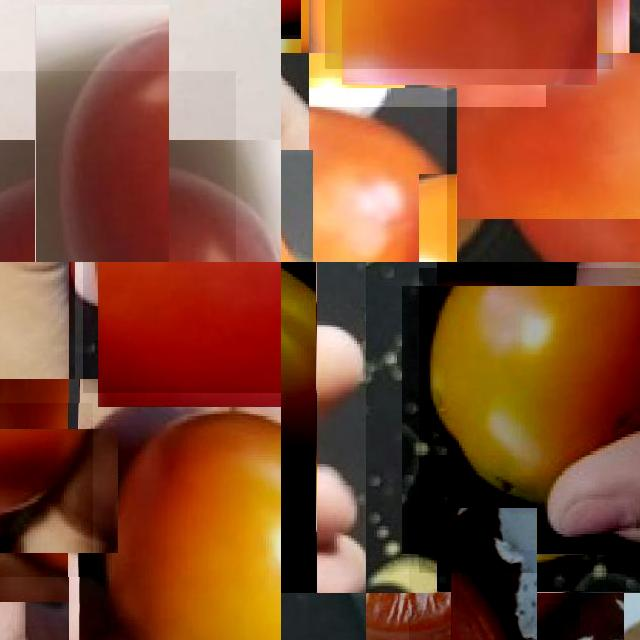0: (456, 53, 640, 262), (309, 78, 446, 262), (325, 0, 613, 69)
Fresh Tomato: (79, 379, 281, 640), (0, 71, 236, 262), (83, 262, 281, 393), (0, 403, 93, 577)
Rotten Tomato: (419, 268, 640, 573), (408, 550, 580, 640)
